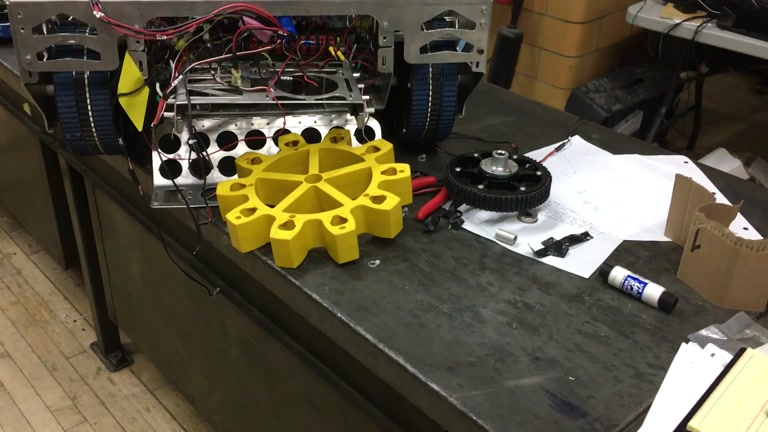gear: (216, 129, 414, 269)
